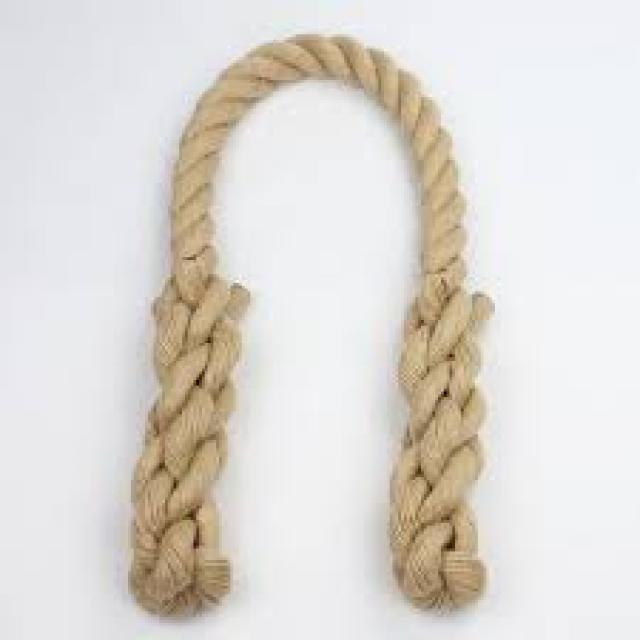rope: (134, 35, 491, 615)
